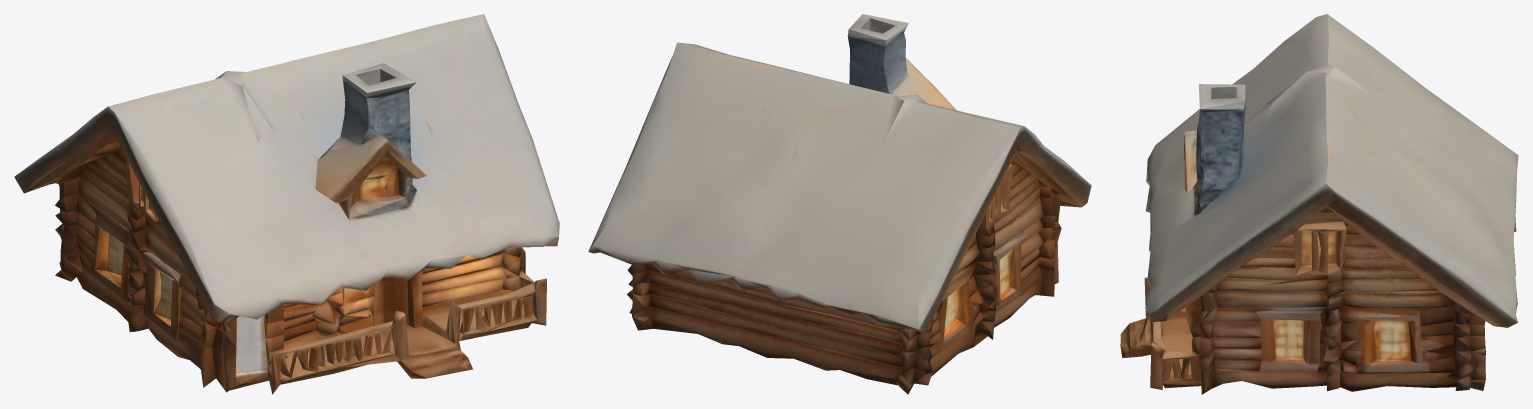
The model's file is m2SnowCabinBg.glb.
3 views of the same model, side by side, from view 1: azimuth 30°, elevation 25°; view 2: azimuth 150°, elevation 25°; view 3: azimuth 270°, elevation 25° (orthographic). The views are drawn at different scales.
Visible parts, largest first — view 1: model; view 2: model; view 3: model.
Part boxes in pixels (x1,y1,x2,y2): model: [14, 14, 559, 394]; model: [588, 14, 1091, 394]; model: [1120, 14, 1518, 394].
Bounding box in the file's own units: 1.9 × 1.28 × 1.87.
1 material, 1 textured.
